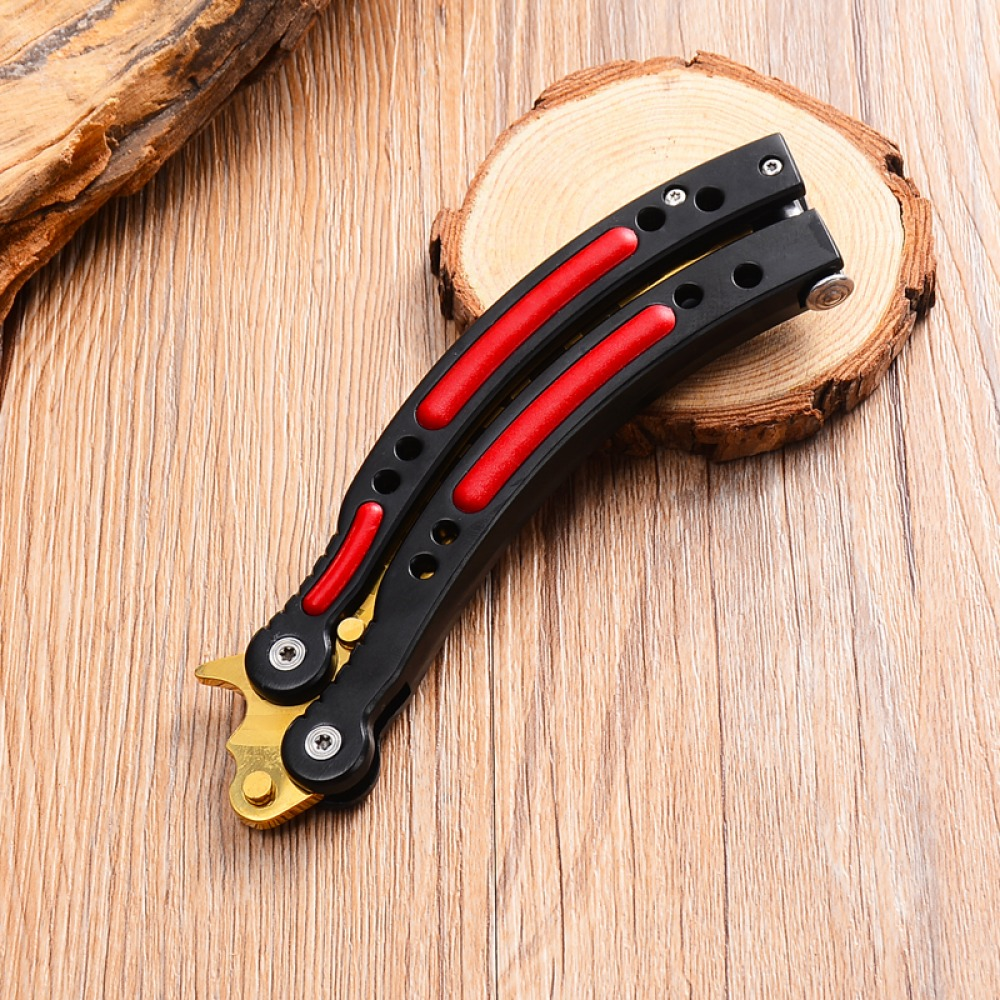knife: (192, 117, 853, 842)
